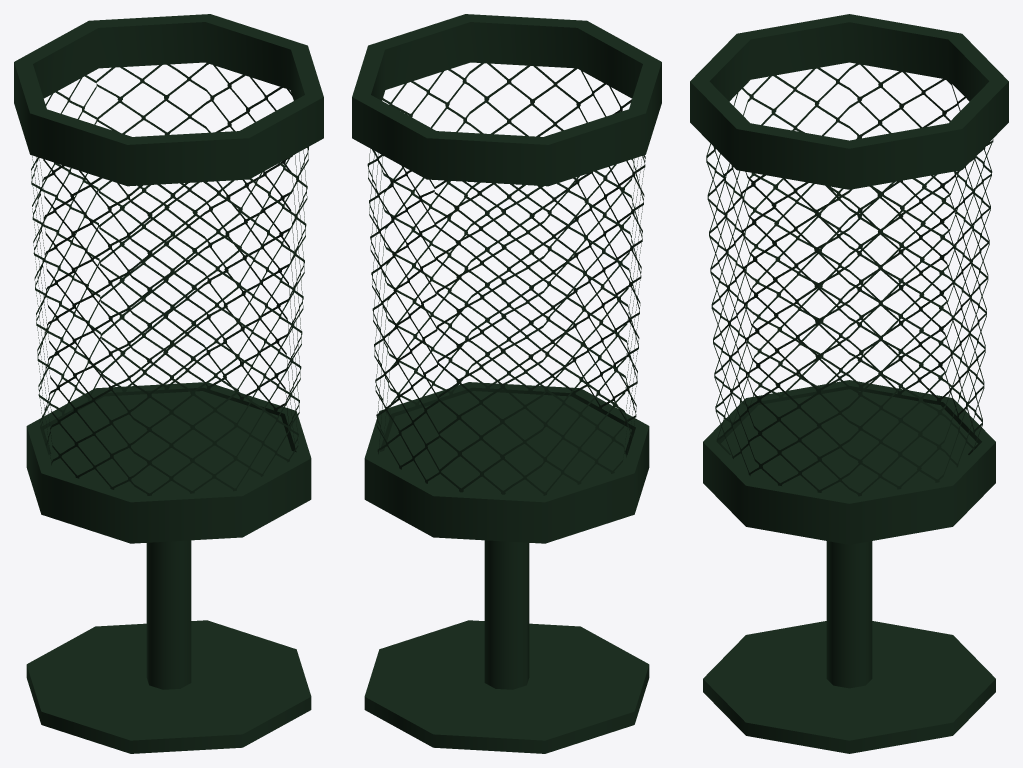
File: Bin.FBX
3 views of the same model, side by side, from view 1: azimuth 30°, elevation 25°; view 2: azimuth 150°, elevation 25°; view 3: azimuth 270°, elevation 25° (orthographic).
Visible parts, largest first — view 1: Cylinder001; view 2: Cylinder001; view 3: Cylinder001.
Boxes of the visible parts, x1=… form: Cylinder001: x1=14, y1=14, x2=323, y2=753; Cylinder001: x1=352, y1=14, x2=661, y2=753; Cylinder001: x1=690, y1=14, x2=1008, y2=753.
Bounding box in the file's own units: 37.5 × 79.23 × 37.5.
Materials: 1 (1 with a texture image).
